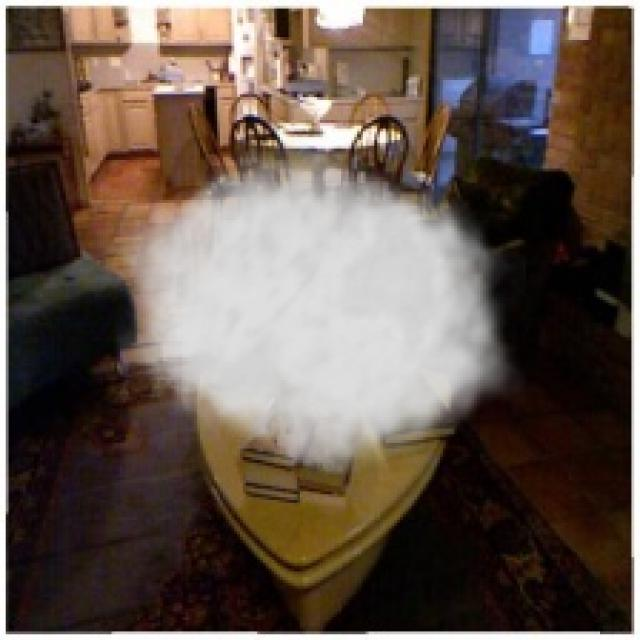smoke: (114, 131, 526, 480)
